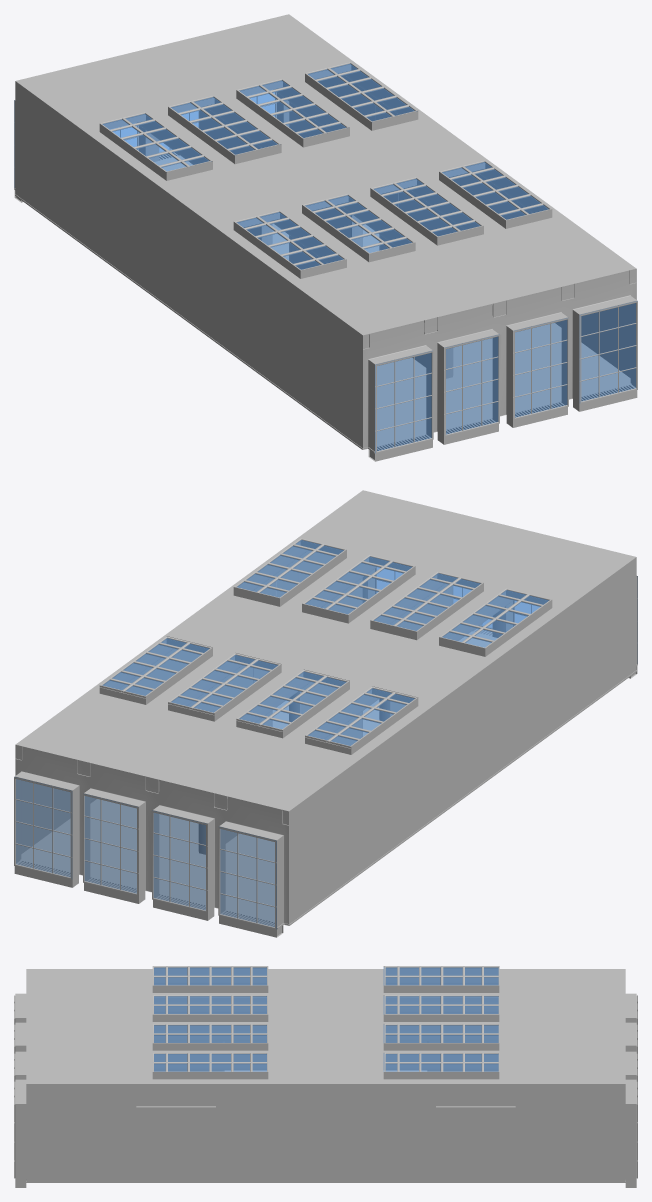
The picture shows the model from 3 angles, top to bottom: view 1: azimuth 30°, elevation 25°; view 2: azimuth 150°, elevation 25°; view 3: azimuth 270°, elevation 25°; orthographic projection. The views are drawn at different scales.
Visible parts, largest first — view 1: Gallery, Glass; view 2: Gallery, Glass; view 3: Gallery, Glass.
Boxes of the visible parts, bbox=[...] form: Gallery: bbox=[14, 14, 637, 461]; Glass: bbox=[103, 64, 636, 452]; Gallery: bbox=[14, 490, 637, 937]; Glass: bbox=[15, 540, 548, 928]; Gallery: bbox=[14, 966, 637, 1187]; Glass: bbox=[154, 968, 498, 1071].
Size of the model in its own units: 1012 by 460 by 2290.
